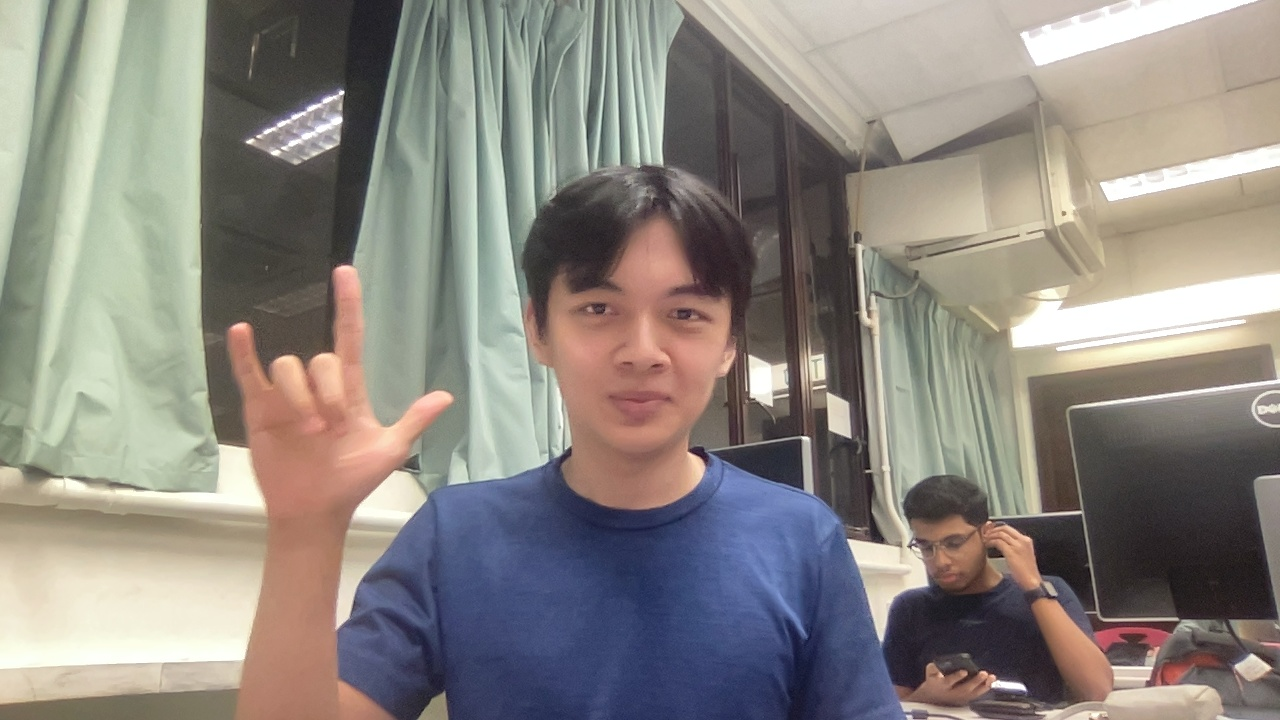iloveyou: (156, 256, 498, 549)
